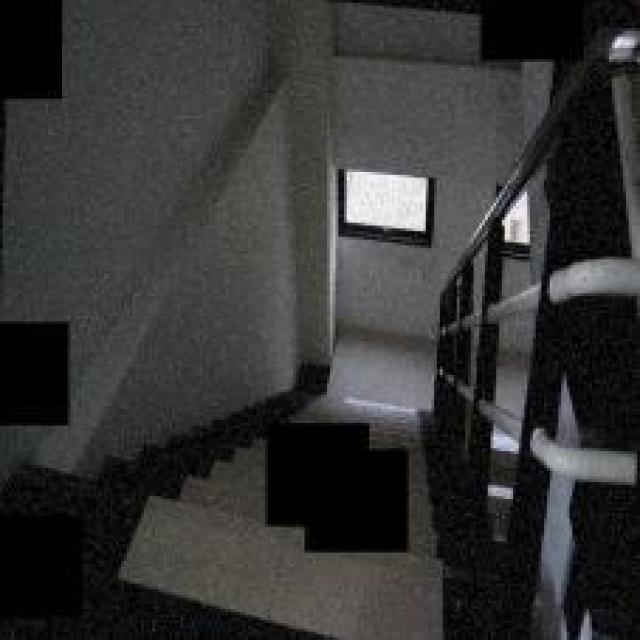downstair: (137, 447, 264, 616)
